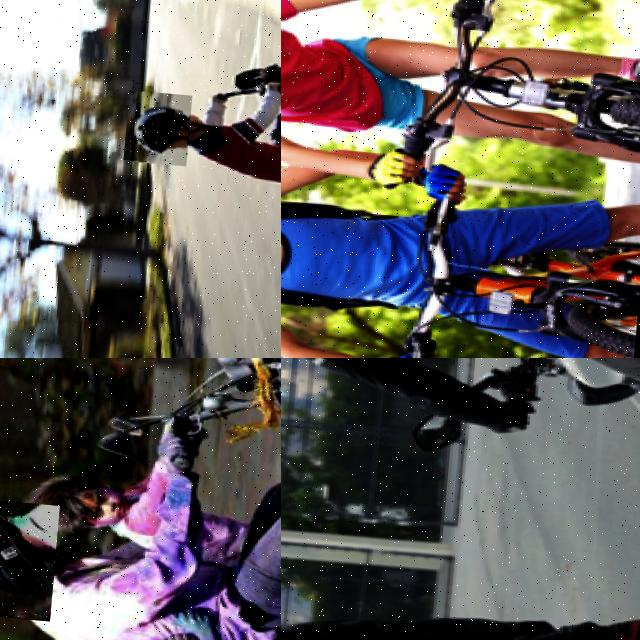helmet: (0, 491, 60, 620), (124, 89, 196, 165)
